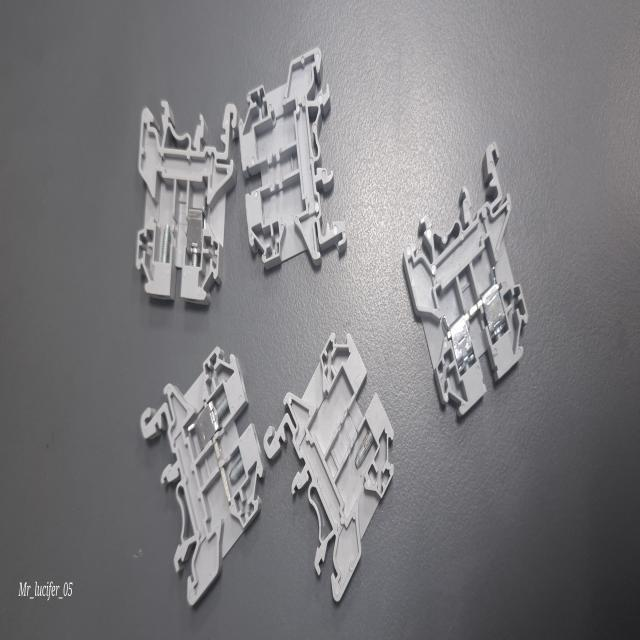Pass: (402, 140, 530, 408)
Reject: (264, 334, 394, 604), (140, 346, 264, 608), (239, 49, 349, 270), (136, 100, 237, 307)
